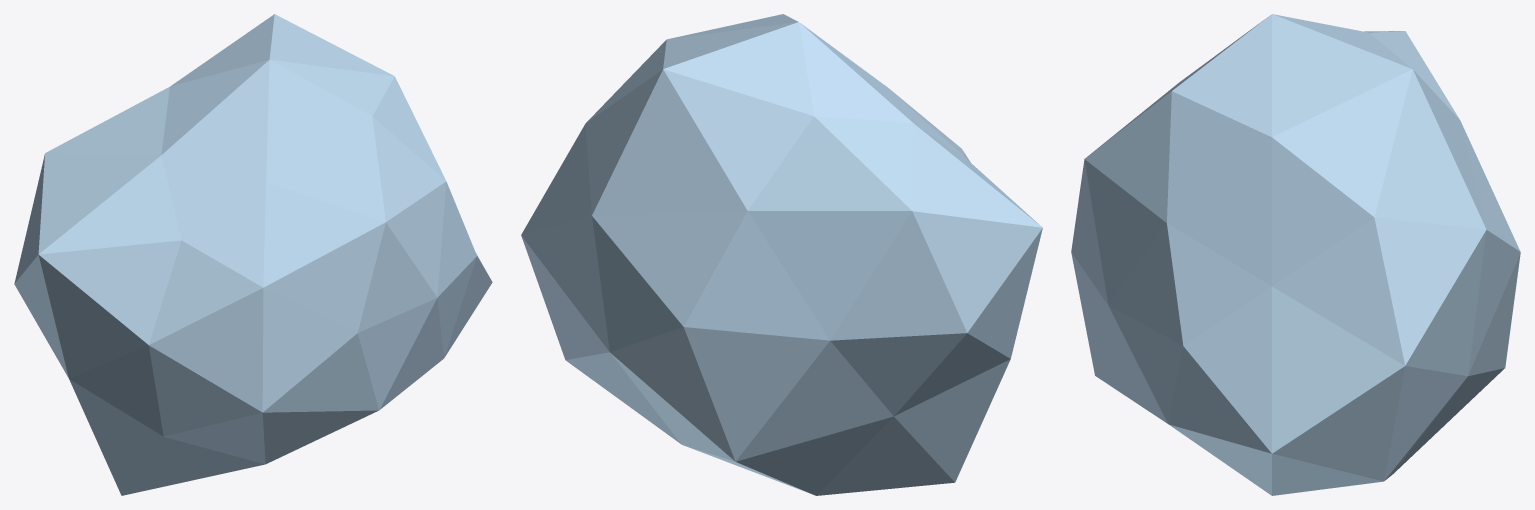
The model's file is ice_chunk_1.glb.
3 renders of one model, left to right at view 1: azimuth 30°, elevation 25°; view 2: azimuth 150°, elevation 25°; view 3: azimuth 270°, elevation 25°, orthographic. The views are drawn at different scales.
Parts seen in each view (by area): view 1: ice_chunk_1; view 2: ice_chunk_1; view 3: ice_chunk_1.
Boxes of the visible parts, x1,y1,x2,y2 form: ice_chunk_1: [14, 14, 492, 495]; ice_chunk_1: [521, 14, 1042, 495]; ice_chunk_1: [1071, 14, 1520, 495].
Bounding box in the file's own units: 2.11 × 1.78 × 1.59.
